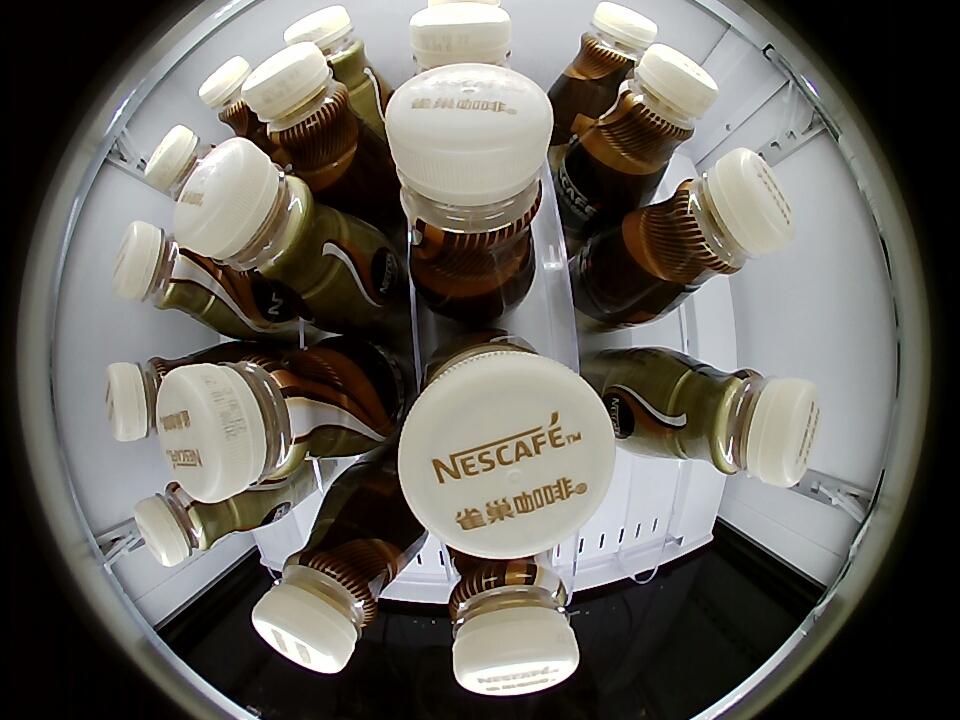kafei: (397, 340, 618, 561), (386, 62, 554, 277), (175, 138, 369, 323), (152, 346, 370, 502), (617, 146, 795, 305), (252, 511, 410, 674), (634, 355, 821, 485), (576, 44, 719, 189), (443, 545, 579, 697), (244, 43, 370, 189), (112, 220, 245, 332), (132, 478, 267, 566), (559, 1, 660, 102), (106, 351, 212, 443), (285, 6, 378, 95), (409, 3, 514, 74), (147, 124, 226, 204), (198, 55, 270, 141)
